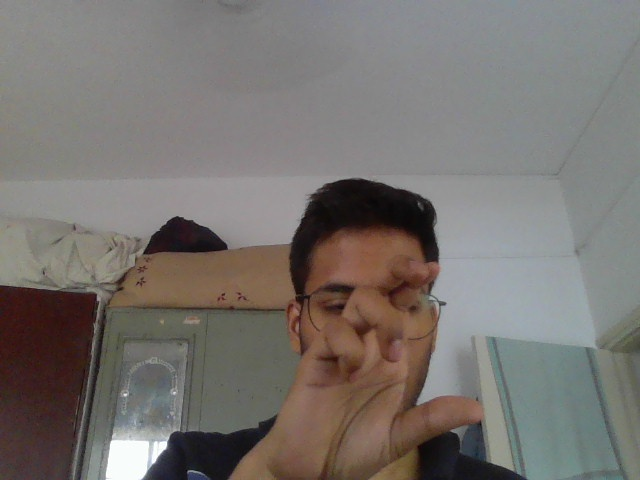no: (253, 239, 504, 480)
